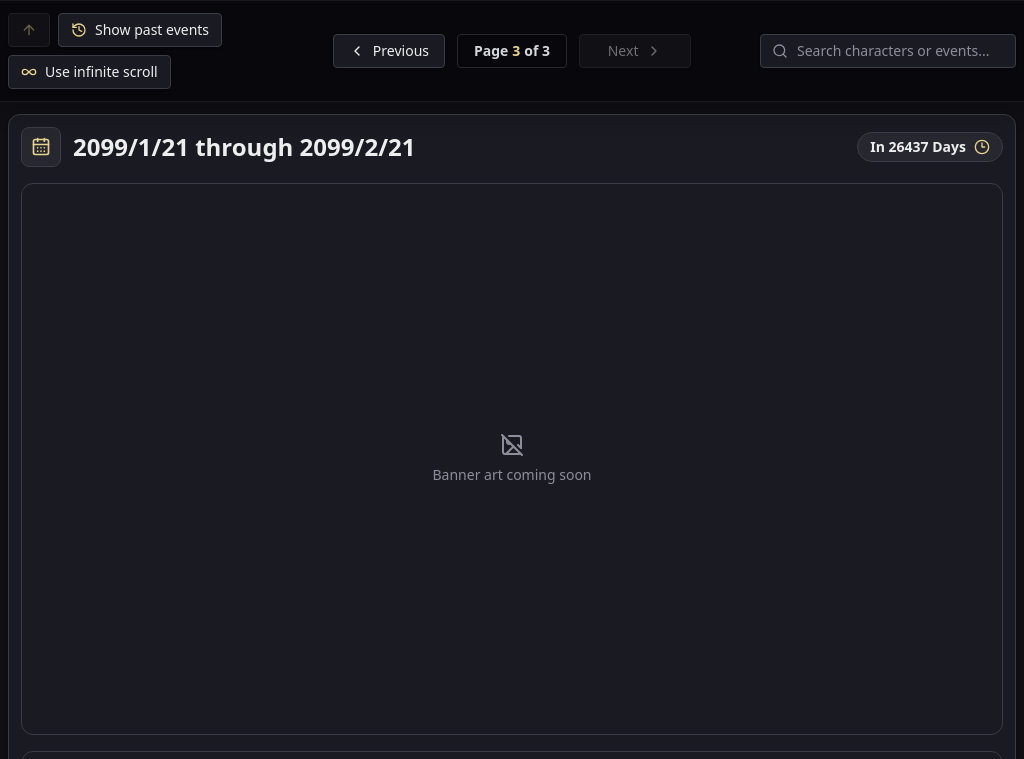
Test: Timeline deep links › hands the list back as soon as the reader uses a control
Click the button "Previous" at (389, 51), box [333,34,445,68]
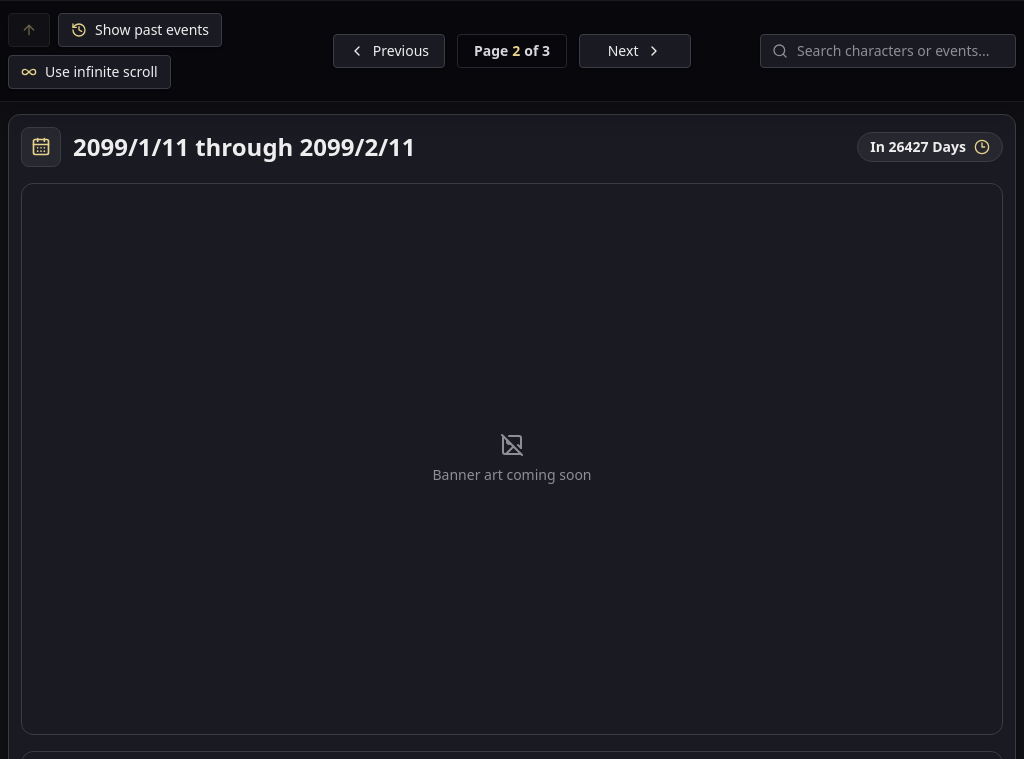
Now the text "Page 2 of 3" is shown, box [457,34,567,68]
